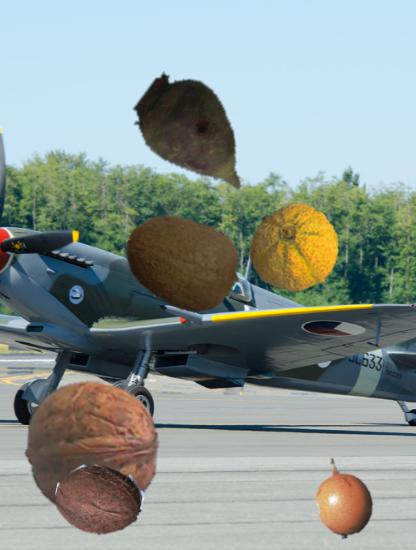Beetroot: (128, 63, 270, 205)
Cantaloupe: (250, 204, 341, 295)
Cocos: (56, 451, 144, 539)
Granadilla: (302, 457, 383, 538)
Kiwi: (124, 203, 242, 321)
Walnut: (23, 378, 161, 516)
